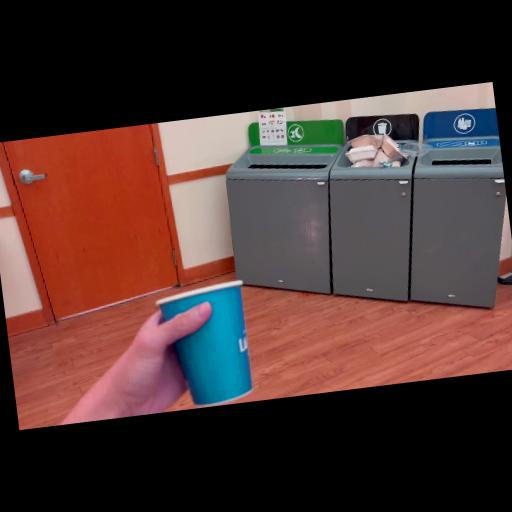lp_paper_cup: (154, 277, 256, 409)
